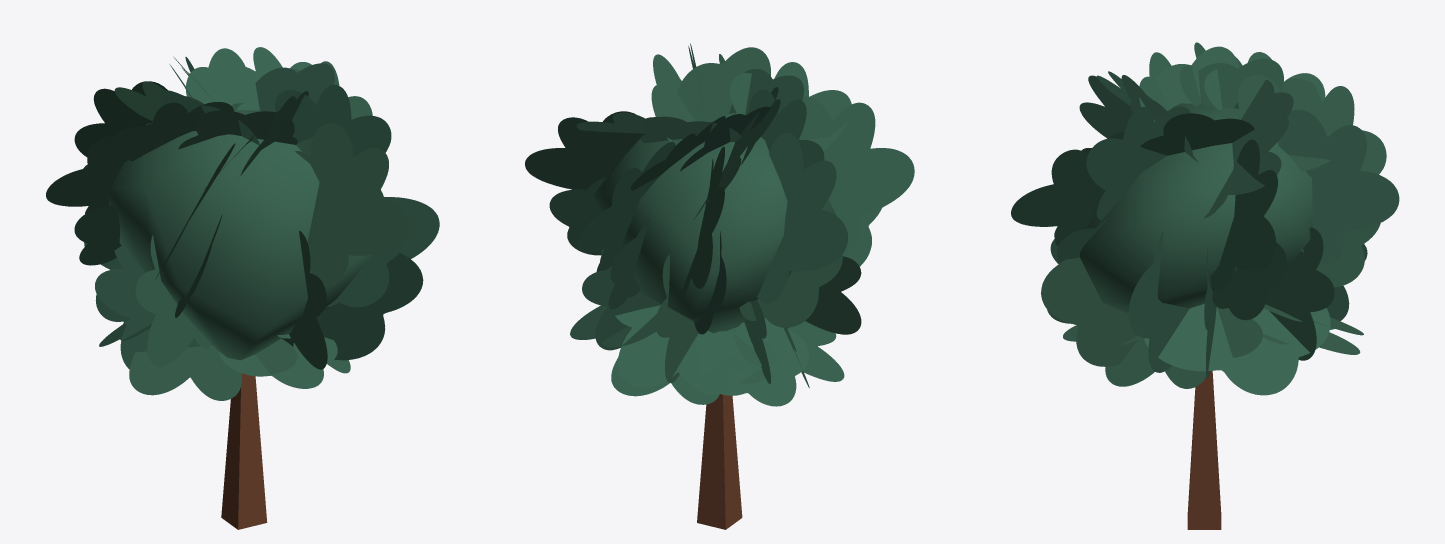
File: FBX_Tree_B_2.fbx
The picture shows the model from 3 angles, left to right: view 1: azimuth 30°, elevation 25°; view 2: azimuth 150°, elevation 25°; view 3: azimuth 270°, elevation 25°; orthographic projection.
Visible parts, largest first — view 1: Tree_B_2; view 2: Tree_B_2; view 3: Tree_B_2.
Boxes of the visible parts, x1,y1,x2,y2 form: Tree_B_2: [46, 47, 439, 529]; Tree_B_2: [525, 43, 914, 529]; Tree_B_2: [1011, 42, 1399, 529].
Size of the model in its own units: 329 by 338 by 394.
